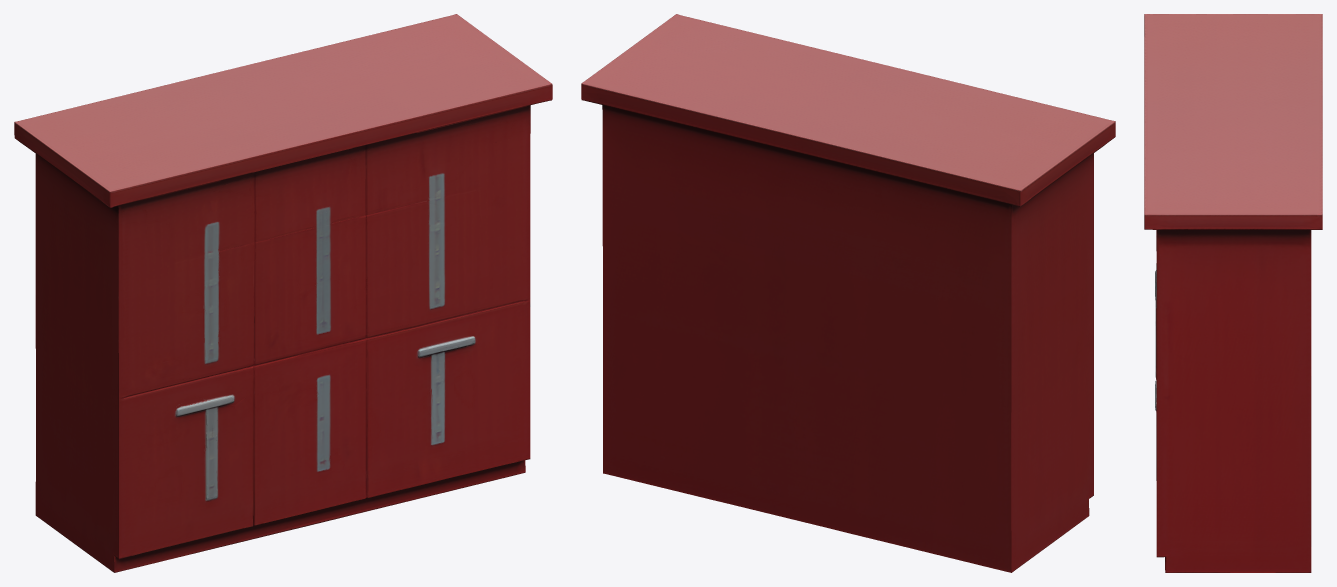
File: Wide_red_office_cabinet.glb
3 renders of one model, left to right at view 1: azimuth 30°, elevation 25°; view 2: azimuth 150°, elevation 25°; view 3: azimuth 270°, elevation 25°, orthographic. The views are drawn at different scales.
Visible parts, largest first — view 1: world; view 2: world; view 3: world.
Boxes of the visible parts, bbox=[...] form: world: bbox=[14, 14, 552, 572]; world: bbox=[581, 14, 1115, 572]; world: bbox=[1144, 14, 1322, 572].
Size of the model in its own units: 1 by 0.849 by 0.3757.
1 material, 1 textured.
